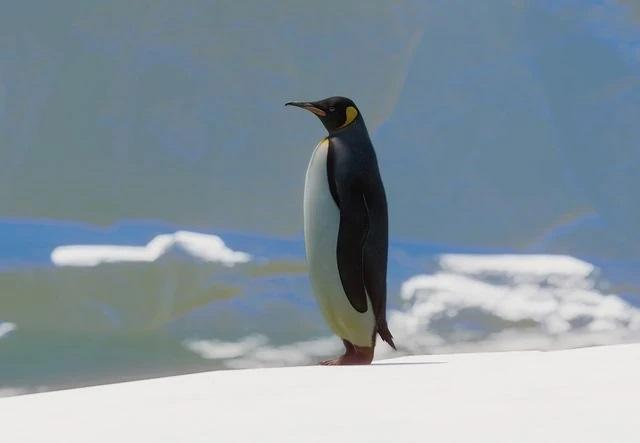king: (234, 83, 447, 417)
